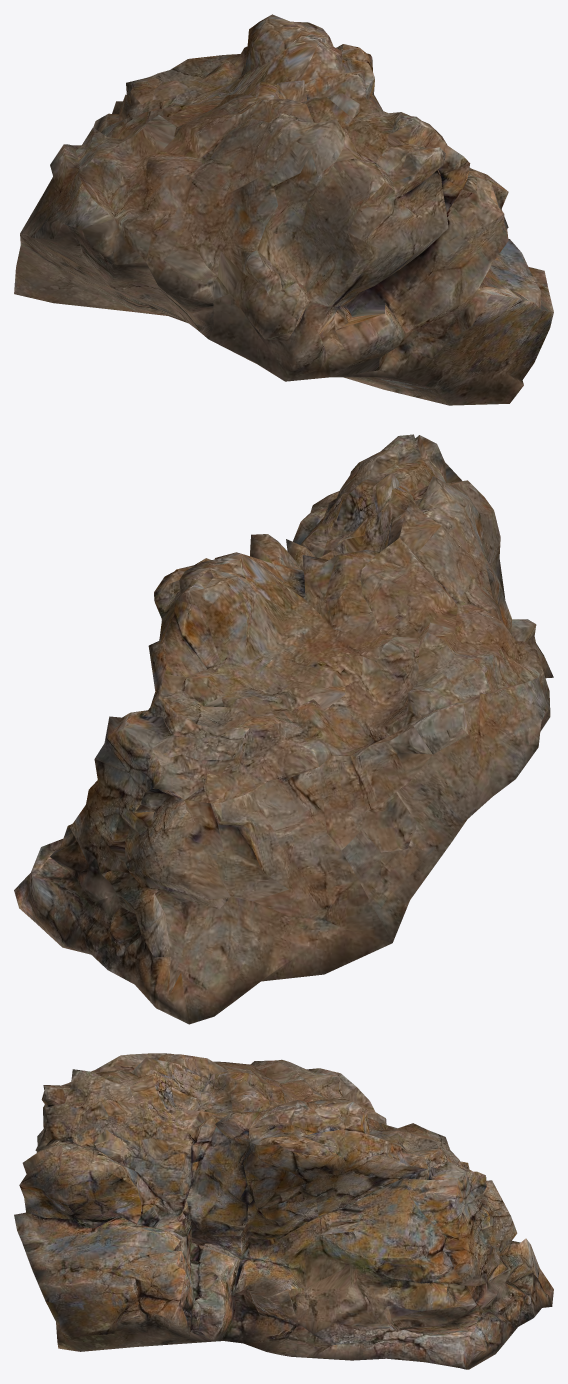
File: rock-a.glb
The picture shows the model from 3 angles, top to bottom: view 1: azimuth 30°, elevation 25°; view 2: azimuth 150°, elevation 25°; view 3: azimuth 270°, elevation 25°; orthographic projection. The views are drawn at different scales.
Visible parts, largest first — view 1: SM_AlpineBoulder_A; view 2: SM_AlpineBoulder_A; view 3: SM_AlpineBoulder_A.
Boxes of the visible parts, x1,y1,x2,y2 form: SM_AlpineBoulder_A: (14,14,553,405); SM_AlpineBoulder_A: (14,434,553,1024); SM_AlpineBoulder_A: (14,1053,553,1369).
Size of the model in its own units: 1.27 by 0.9959 by 1.82.
1 material, 1 textured.
